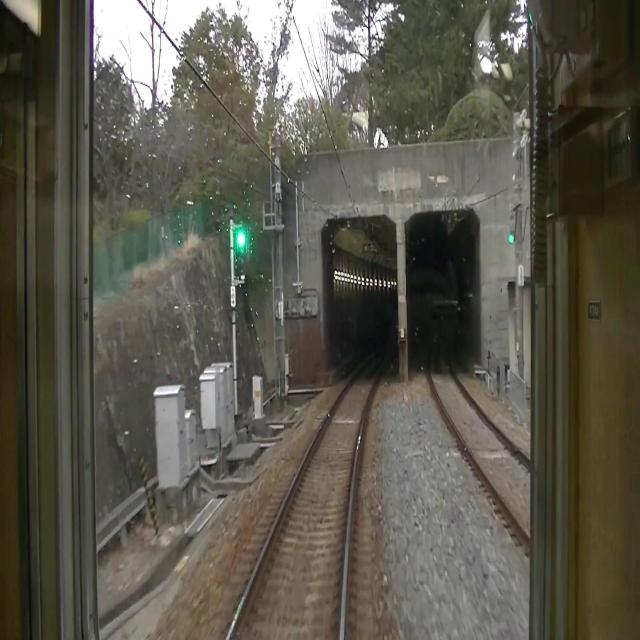rail-track: (430, 315, 528, 524)
